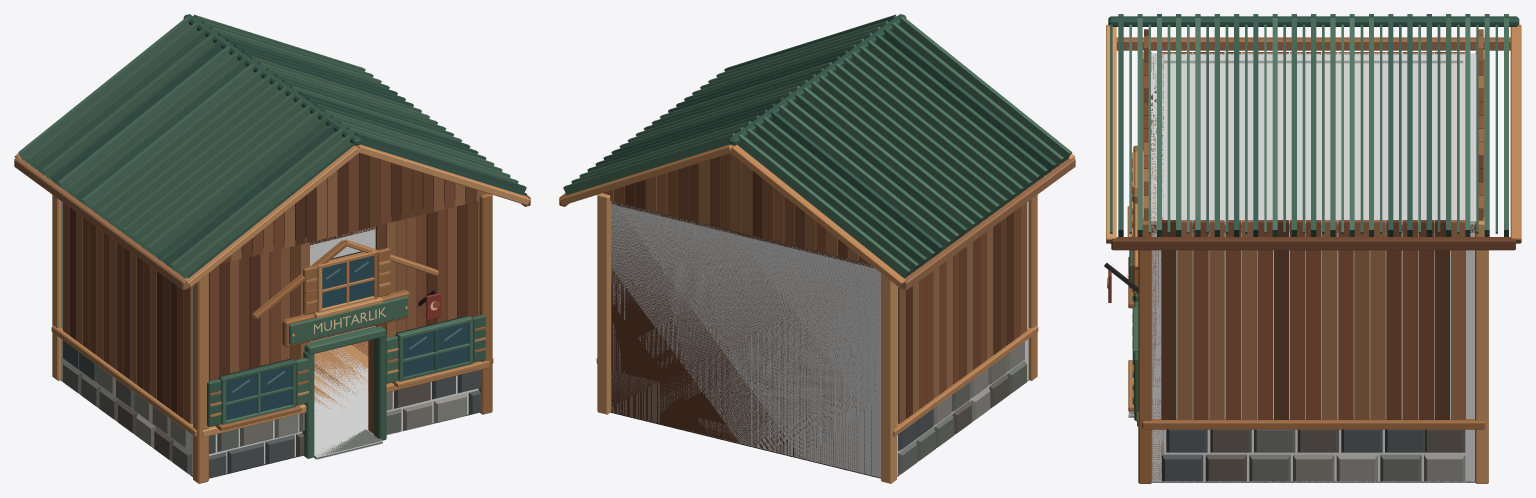
File: muhtarlik.glb
3 renders of one model, left to right at view 1: azimuth 30°, elevation 25°; view 2: azimuth 150°, elevation 25°; view 3: azimuth 270°, elevation 25°, orthographic. The views are drawn at different scales.
Visible parts, largest first — view 1: Roof, Cladding, Stonework, Windows, Frame, Gables, Shell-col, Fascia, Roof seams, Shutters, Doorframe, Sign (+4 smaller); view 2: Roof, Shell-col, Walls, Cladding, Gables, Frame, Fascia, Stonework, Roof seams, Ceiling, Ceiling-col; view 3: Cladding, Roof, Ceiling-col, Shell-col, Stonework, Roof seams, Fascia, Frame, Gables, Walls, Windows, Shutters (+1 smaller).
Part boxes in pixels (x1,y1,x2,y2): Roof: [18, 14, 526, 278]; Cladding: [63, 193, 479, 423]; Stonework: [63, 340, 481, 478]; Windows: [215, 251, 478, 430]; Frame: [51, 181, 493, 483]; Gables: [221, 153, 486, 263]; Shell-col: [61, 187, 478, 475]; Fascia: [14, 144, 530, 290]; Roof seams: [25, 25, 527, 278]; Shutters: [207, 248, 485, 426]; Doorframe: [302, 326, 386, 458]; Sign: [282, 289, 409, 347]; Roof: [563, 14, 1071, 278]; Shell-col: [611, 187, 1029, 478]; Walls: [611, 210, 877, 474]; Cladding: [897, 193, 1026, 423]; Gables: [603, 153, 868, 263]; Frame: [596, 181, 1038, 483]; Fascia: [559, 144, 1075, 290]; Stonework: [898, 342, 1026, 475]; Roof seams: [745, 19, 1072, 271]; Ceiling: [611, 201, 873, 267]; Ceiling-col: [611, 201, 875, 269]; Cladding: [1144, 52, 1465, 419]; Roof: [1108, 14, 1519, 236]; Ceiling-col: [1152, 63, 1474, 233]; Shell-col: [1151, 53, 1476, 482]; Stonework: [1162, 429, 1465, 481]; Roof seams: [1110, 24, 1497, 233]; Fascia: [1106, 24, 1521, 250]; Frame: [1134, 51, 1488, 483]; Gables: [1144, 29, 1483, 220]; Walls: [1151, 53, 1163, 480]; Windows: [1127, 152, 1138, 411]; Shutters: [1131, 145, 1138, 411].
Bounding box in the file's own units: 7.78 × 6.82 × 6.74.
